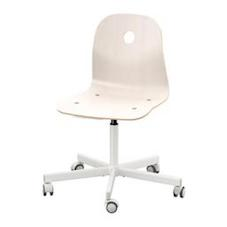chair: (26, 13, 194, 225)
